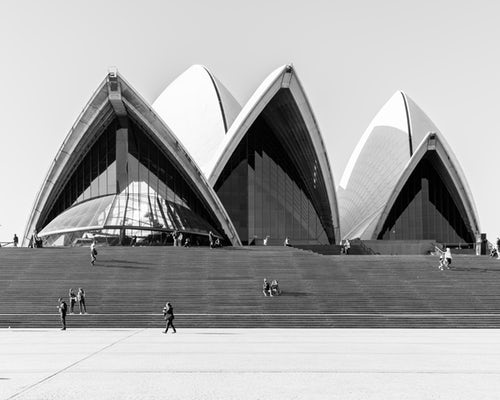opera house: (22, 24, 500, 263)
